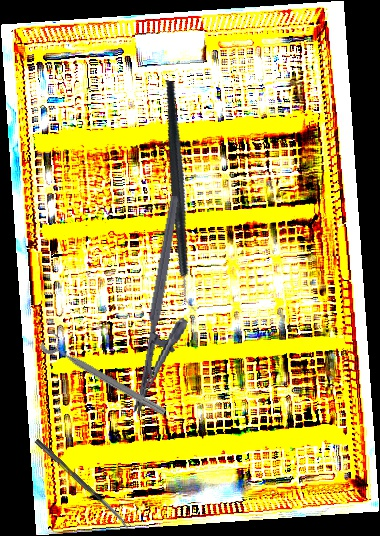Chopper: (105, 79, 261, 313)
Fixation Ring: (38, 328, 173, 420)
Needle Holder: (131, 195, 210, 420)
Surgical Spoon: (34, 438, 131, 530)
